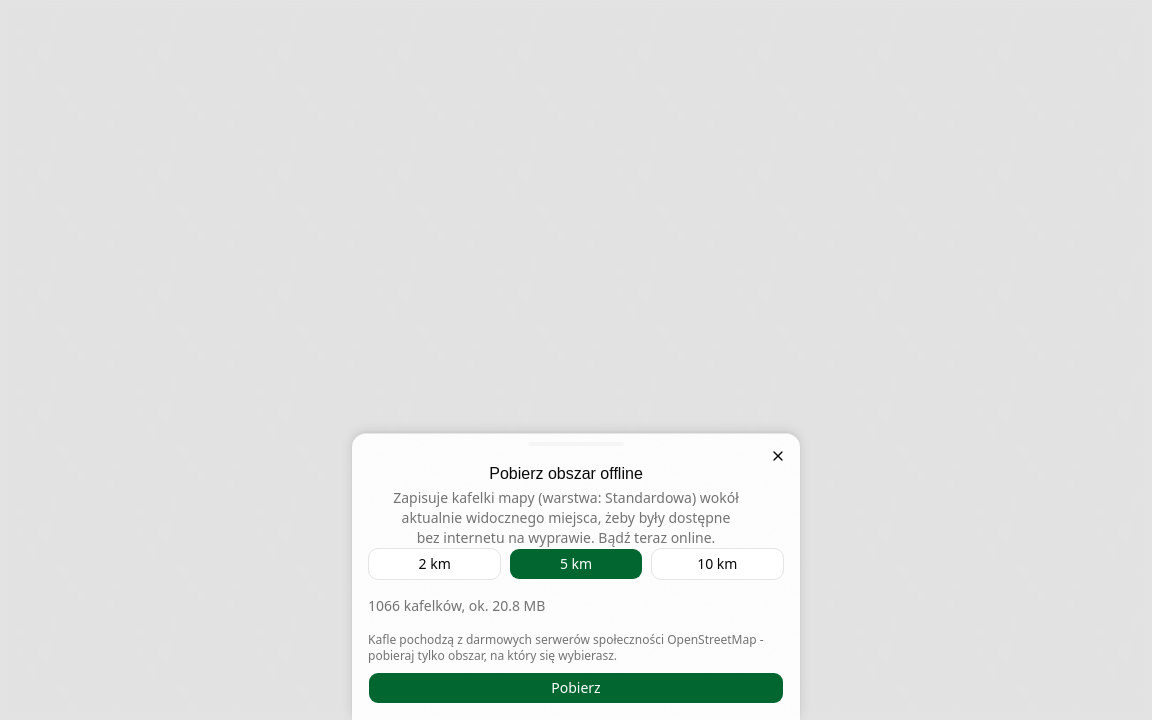
Test case: OfflineAreaDownload › anulowanie pobierania pokazuje komunikat i nie zamyka panelu jak przy sukcesie
Click the button "Pobierz": (576, 688) [368,672,784,704]
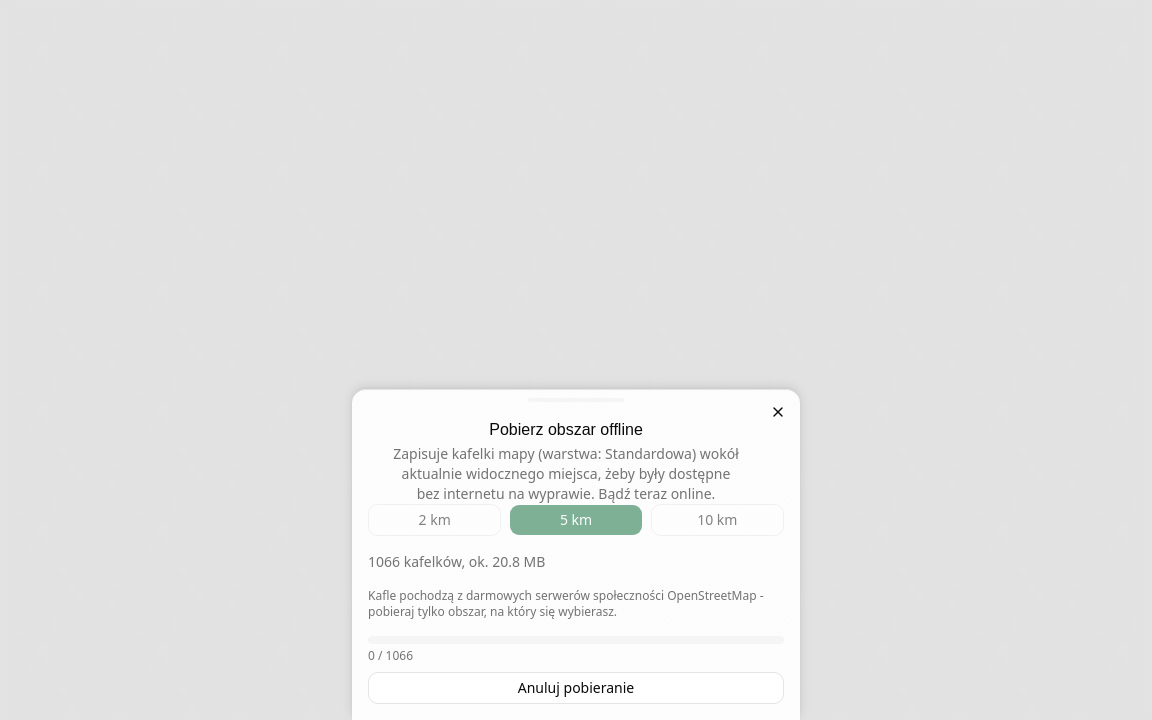
Click the button "Anuluj pobieranie": (576, 688) [368,672,784,704]
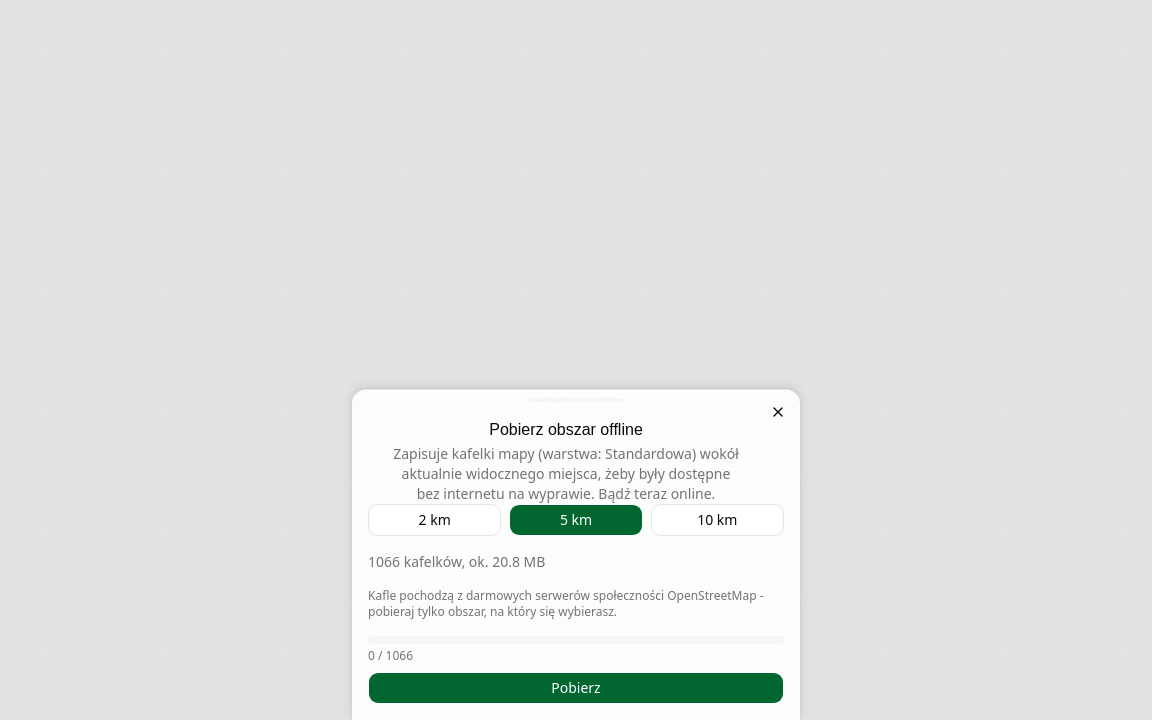
Expected: the button "Pobierz" is shown, [368,672,784,704]
